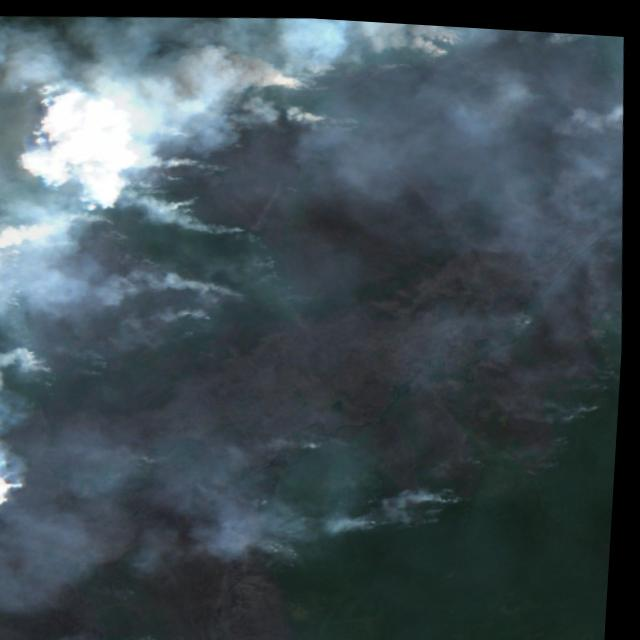fire: (0, 0, 640, 414)
